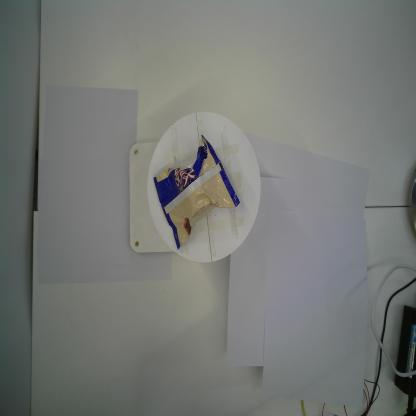Dessert: (153, 133, 241, 250)
